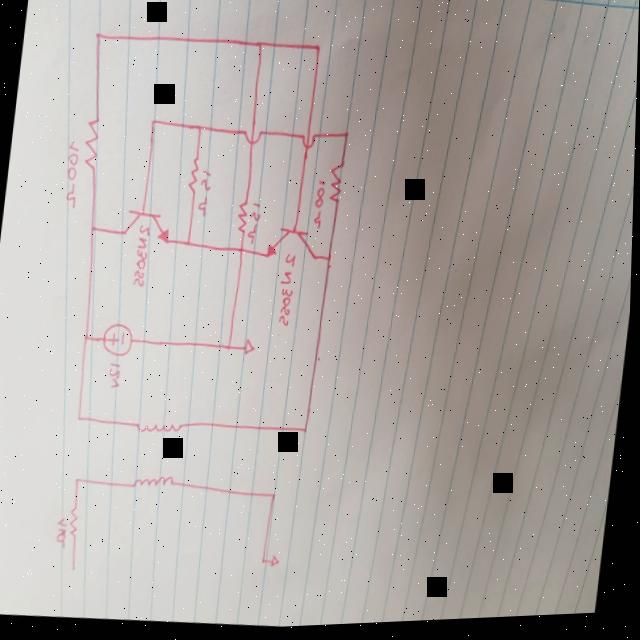crossover: (241, 128, 264, 149), (298, 133, 318, 153)
ground: (243, 338, 257, 359), (270, 555, 283, 570)
junction: (301, 424, 312, 441), (80, 331, 92, 346), (310, 42, 322, 57), (194, 121, 205, 137), (73, 474, 85, 488), (88, 221, 99, 236), (182, 236, 193, 251), (147, 116, 158, 130), (77, 410, 87, 425), (270, 490, 281, 503), (90, 29, 101, 42), (226, 341, 236, 355), (236, 246, 246, 258), (253, 40, 263, 52), (262, 557, 270, 568), (323, 256, 332, 265), (341, 132, 350, 141)
resistor: (78, 113, 104, 178), (324, 161, 347, 209), (64, 499, 87, 545), (184, 155, 203, 199), (233, 201, 252, 240)
source: (99, 320, 137, 360)
terminal: (71, 563, 80, 575)
text: (59, 138, 86, 212), (275, 254, 298, 330), (130, 225, 153, 289), (196, 167, 215, 221), (312, 179, 330, 234), (247, 200, 263, 246), (105, 359, 123, 393), (56, 515, 71, 551)
transformer: (123, 414, 193, 496)
transistor: (122, 203, 174, 251), (264, 226, 321, 269)
